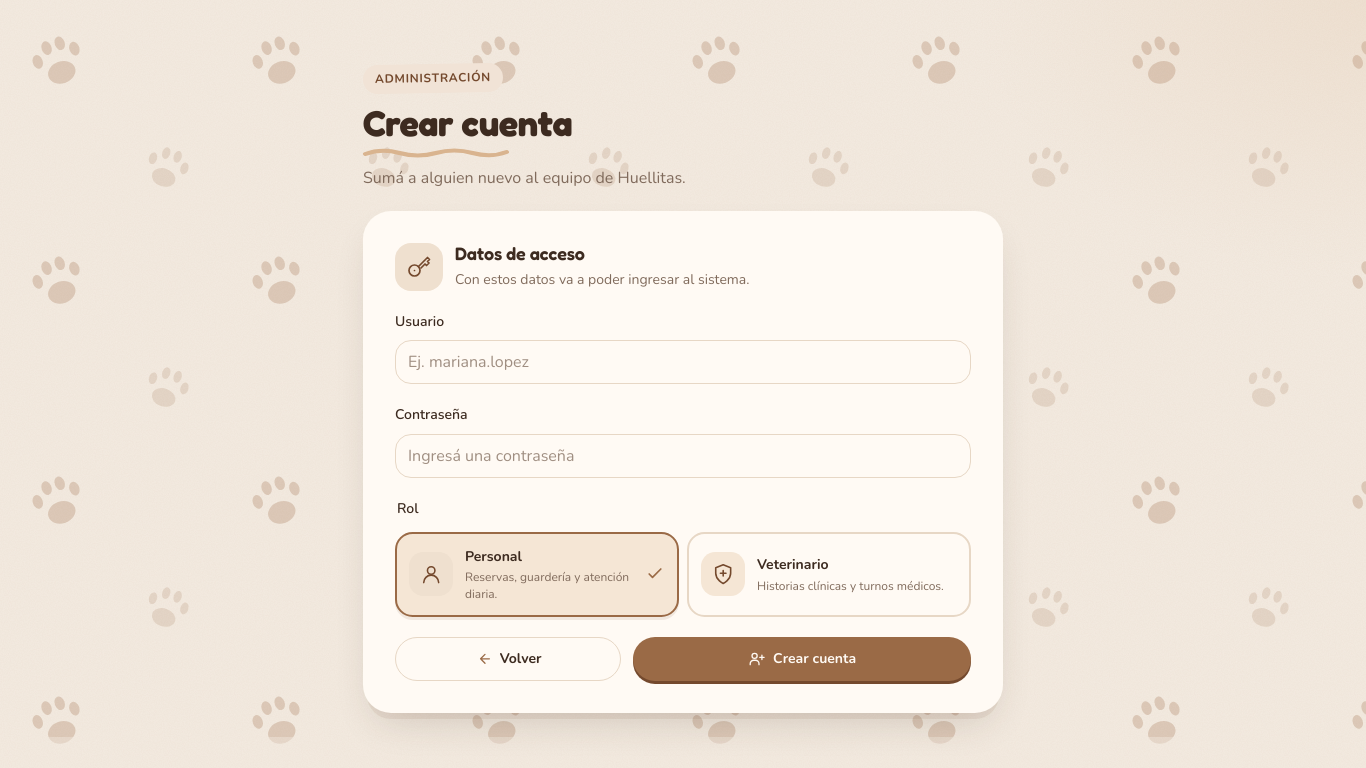
Scenario: CrearCuentaPage › permite reintentar después de un error de red
Type "recepcion" into the field labelled "Usuario" at (683,362), box left=395, top=340, right=971, bottom=384
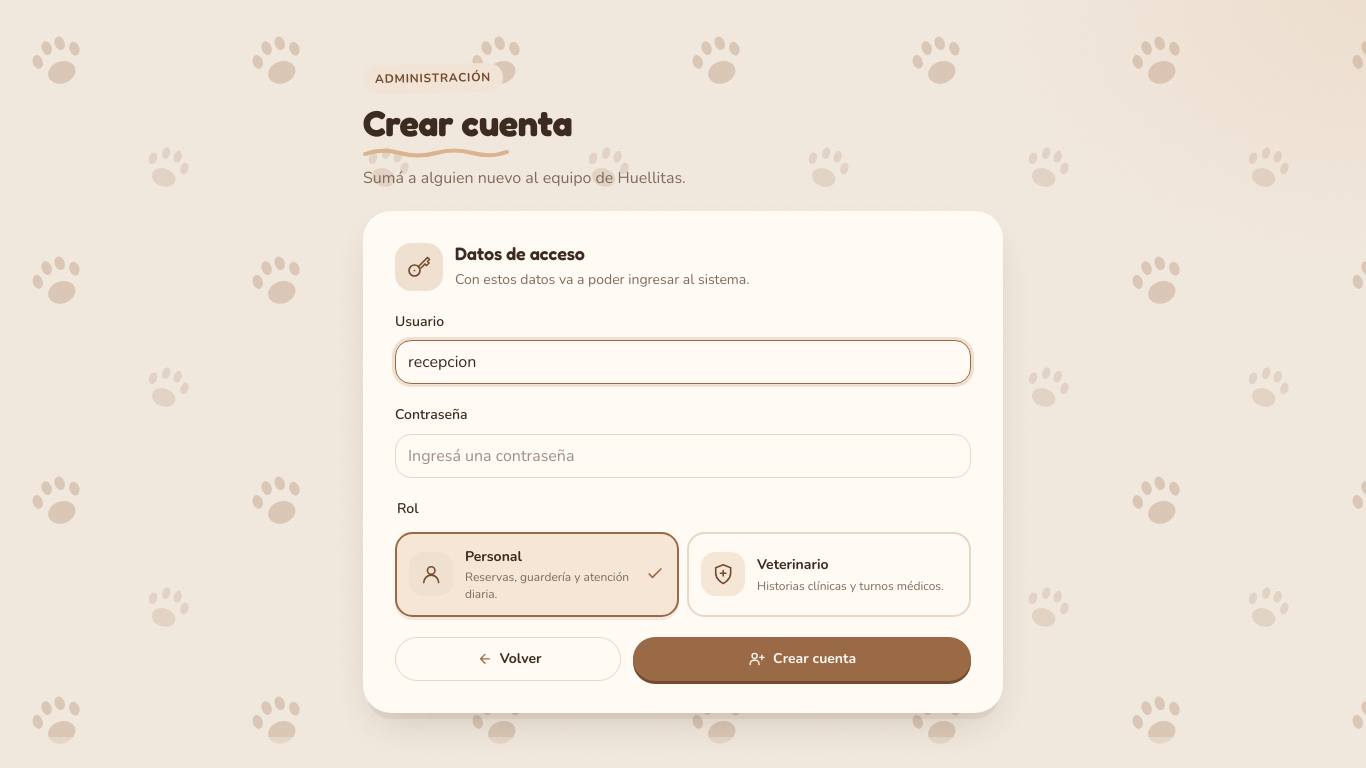
Type "clave-segura" into the password field labelled "Contraseña" at (683,456), box left=395, top=434, right=971, bottom=478
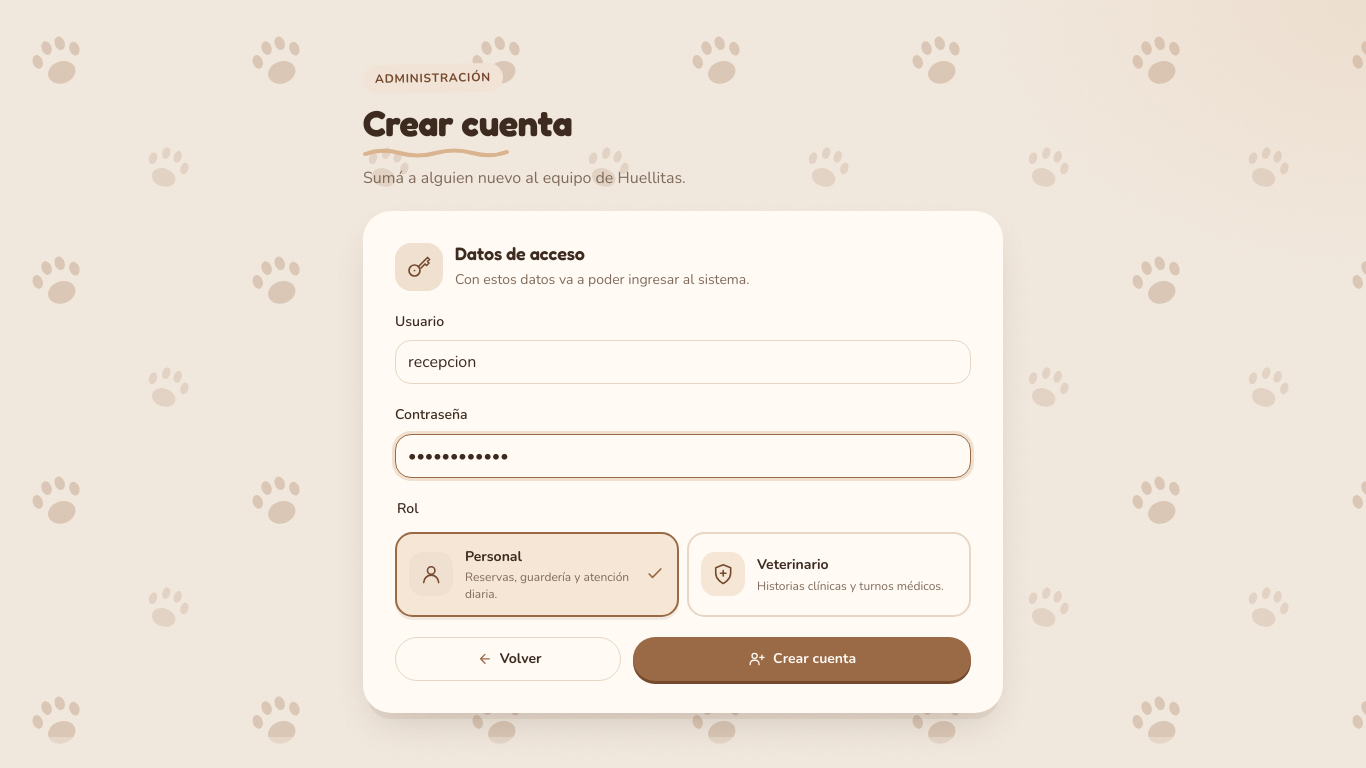
Click the button "Crear cuenta" at (802,659), box left=633, top=637, right=971, bottom=681
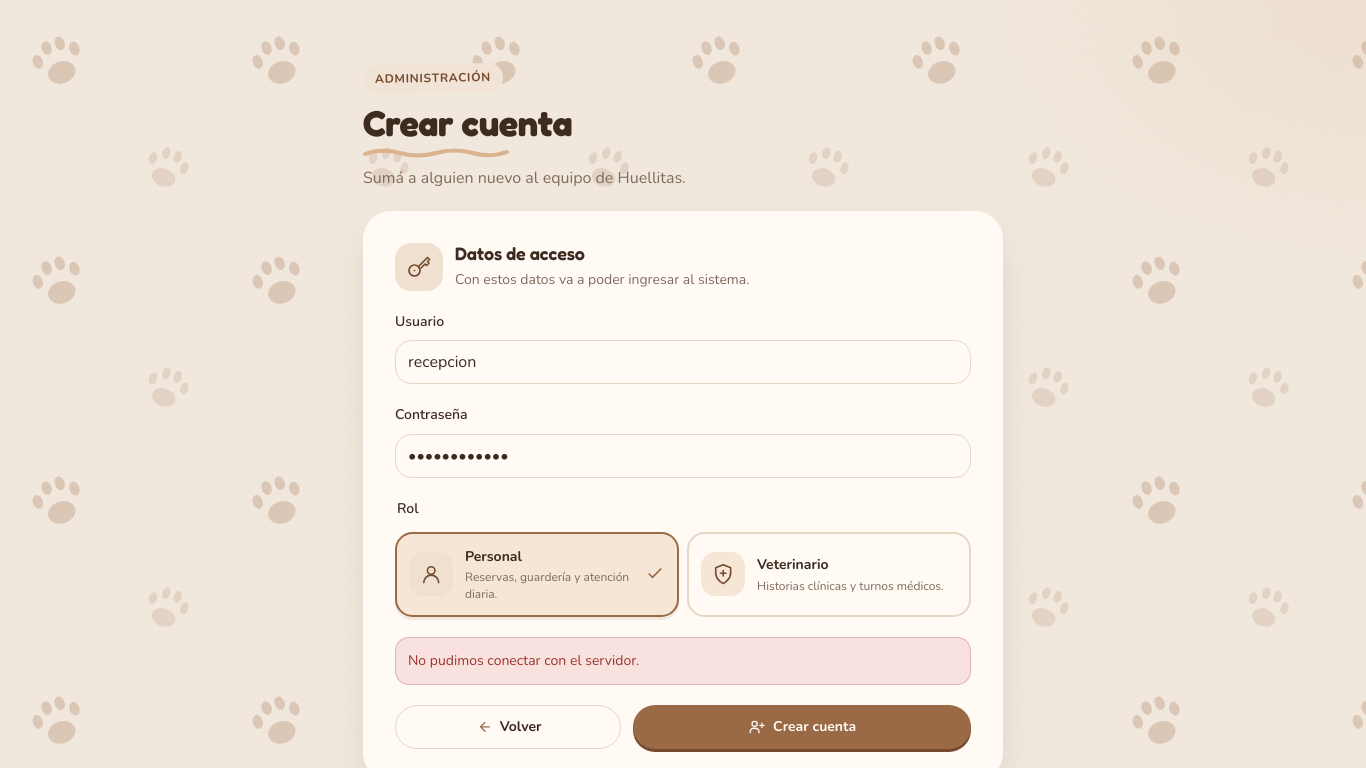
Check: the message reads "No pudimos conectar con el servidor.", box left=408, top=651, right=639, bottom=670
Click the button "Crear cuenta" at (802,727), box left=633, top=705, right=971, bottom=749
(page scrolled)
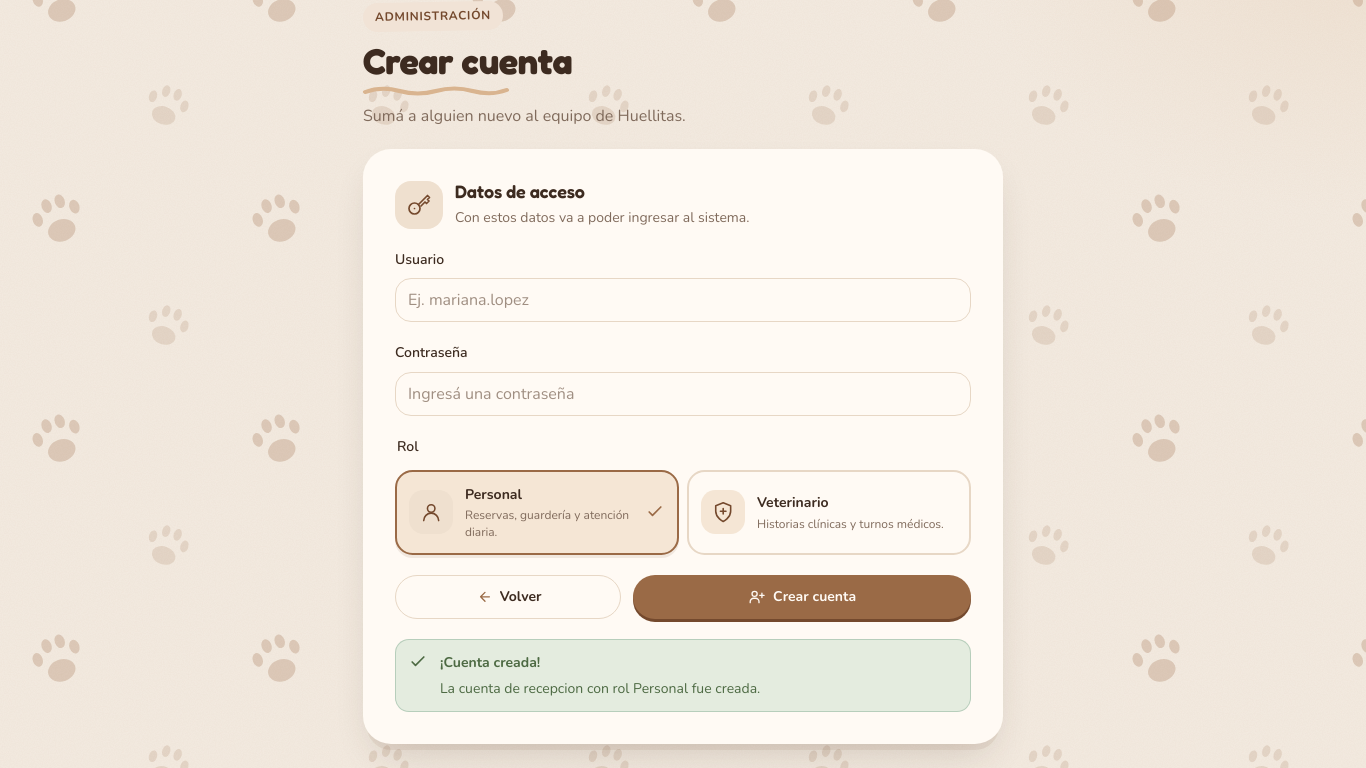
Check: the message shows "La cuenta de recepcion", box left=440, top=679, right=760, bottom=698
